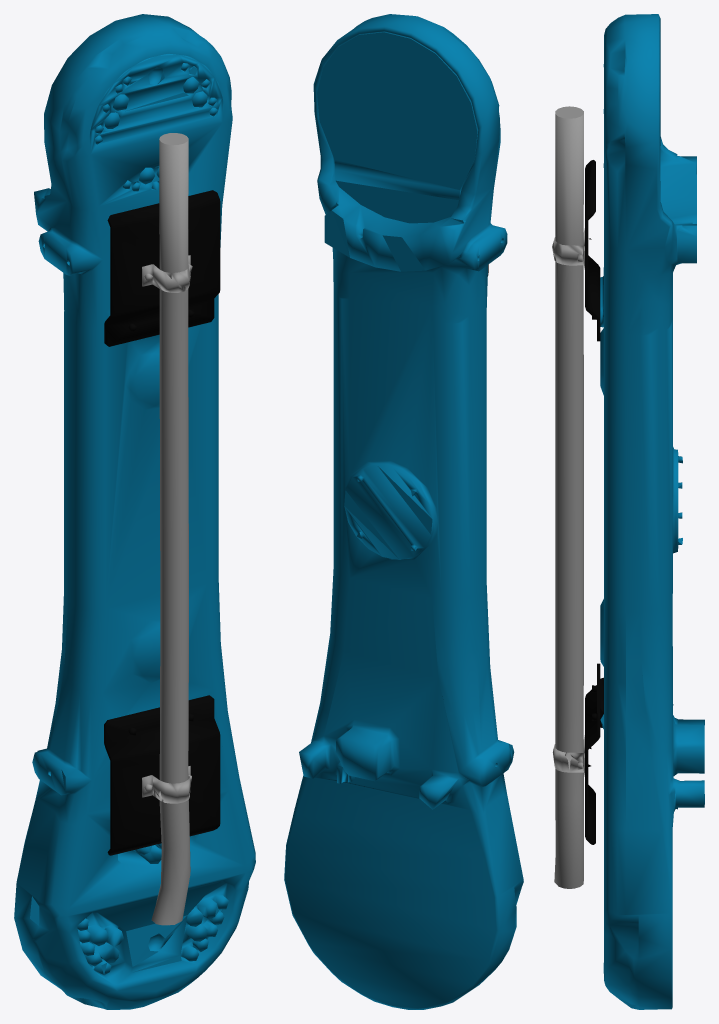
The picture shows the model from 3 angles, left to right: view 1: azimuth 30°, elevation 25°; view 2: azimuth 150°, elevation 25°; view 3: azimuth 270°, elevation 25°; orthographic projection.
Parts seen in each view (by area): view 1: f_1-06vxl70-a0_lk2; view 2: f_1-06vxl70-a0_lk2; view 3: f_1-06vxl70-a0_lk2.
Boxes of the visible parts, box(x1,y1,x2,y2) form: f_1-06vxl70-a0_lk2: box(14, 14, 255, 1009); f_1-06vxl70-a0_lk2: box(284, 14, 523, 1009); f_1-06vxl70-a0_lk2: box(552, 14, 704, 1009).
Size of the model in its own units: 0.342 by 0.2089 by 1.47.
